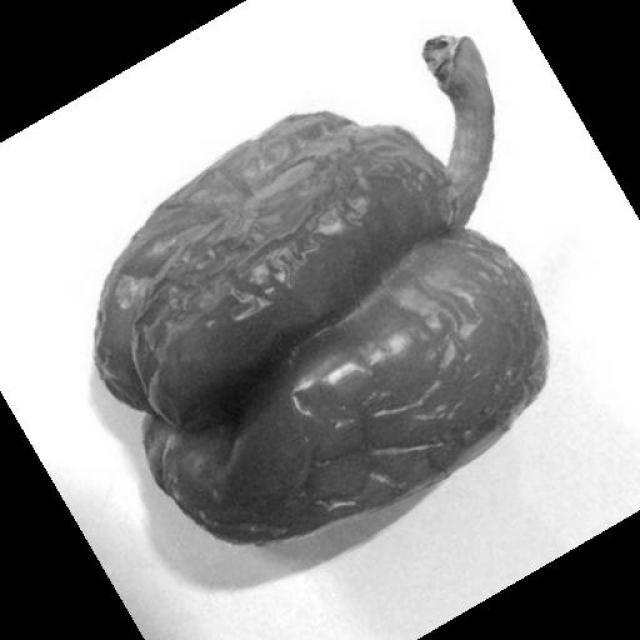Stale_Capsicum: (93, 69, 505, 544)
